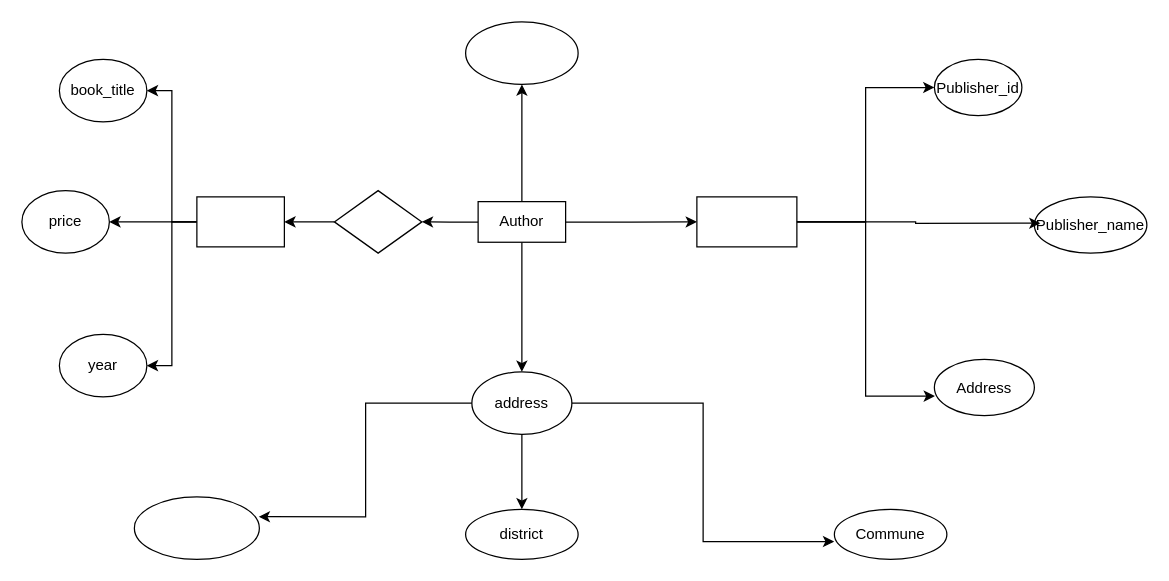
The diagram is 1169 pixels wide and 581 high, and some of its shapes have lost their labels. The shapes that lost their labels are listed below. From the top down, each one's centre as x and y in pixels, then its label:
At point 521,52: "author_name".
At point 240,221: "book".
At point 377,221: "write".
At point 746,221: "Publisher".
At point 196,527: "city".
